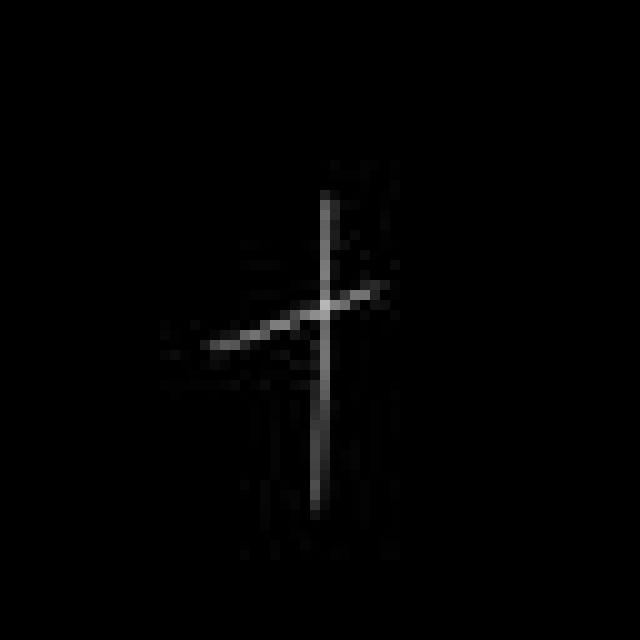10 -ten-: (196, 182, 391, 523)
